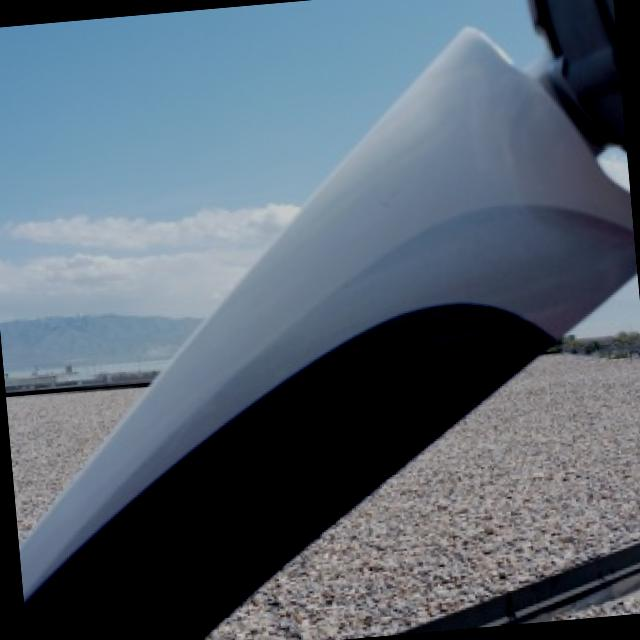healthy: (21, 30, 637, 640)
